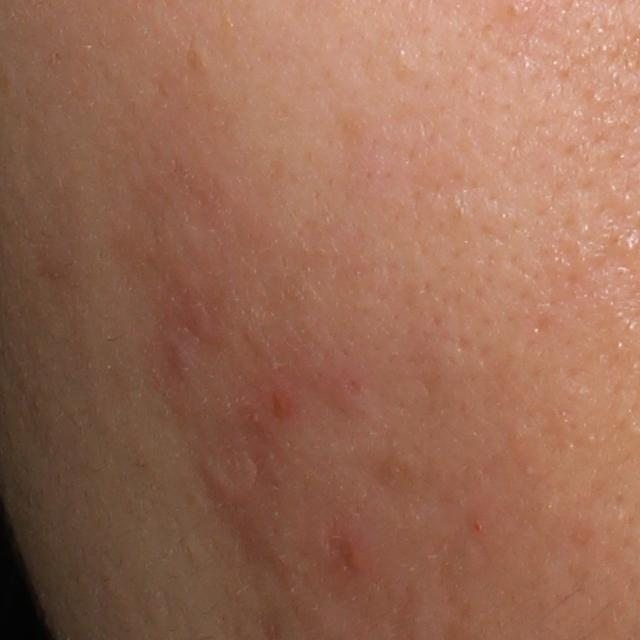comedo: (188, 37, 217, 83)
papule: (268, 389, 295, 424)
